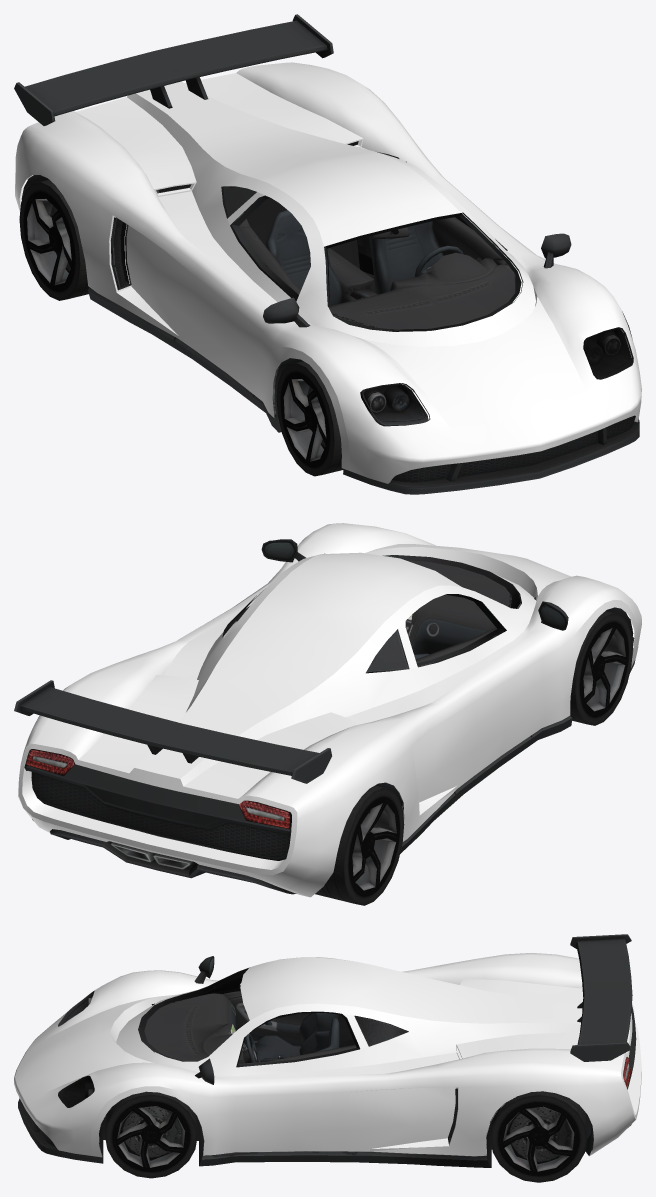
File: car_gt22_hi.glb
3 renders of one model, top to bottom at view 1: azimuth 30°, elevation 25°; view 2: azimuth 150°, elevation 25°; view 3: azimuth 270°, elevation 25°, orthographic. The views are drawn at different scales.
Visible parts, largest first — view 1: node_id36_6, node_id70_8, node_id84_0, node_id48_1; view 2: node_id36_6, node_id70_8, node_id48_1, node_id84_0, node_id42_3; view 3: node_id36_6, node_id70_8, node_id48_1, node_id84_0.
Part boxes in pixels (bbox=[...]): node_id36_6: bbox=[15, 62, 641, 483]; node_id70_8: bbox=[14, 14, 639, 494]; node_id84_0: bbox=[233, 210, 515, 361]; node_id48_1: bbox=[19, 179, 343, 476]; node_id36_6: bbox=[18, 523, 641, 897]; node_id70_8: bbox=[14, 539, 635, 894]; node_id48_1: bbox=[32, 611, 632, 905]; node_id84_0: bbox=[366, 560, 511, 673]; node_id42_3: bbox=[25, 749, 290, 829]; node_id36_6: bbox=[14, 953, 641, 1157]; node_id70_8: bbox=[18, 934, 636, 1167]; node_id48_1: bbox=[105, 1092, 587, 1182]; node_id84_0: bbox=[144, 991, 408, 1064].
Size of what is drawn, in the model's own units: 0.5162 by 0.2785 by 1.09.
Materials: 5 (4 with a texture image).
